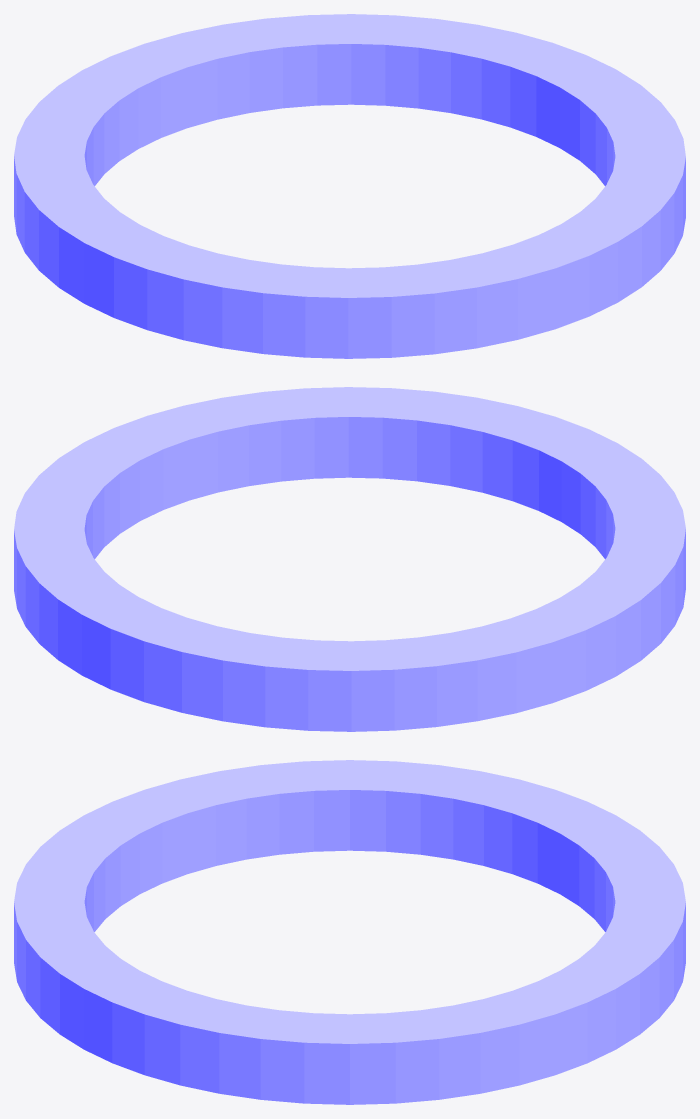
The picture shows the model from 3 angles, top to bottom: view 1: azimuth 30°, elevation 25°; view 2: azimuth 150°, elevation 25°; view 3: azimuth 270°, elevation 25°; orthographic projection.
Visible parts, largest first — view 1: Circle; view 2: Circle; view 3: Circle.
Boxes of the visible parts, x1,y1,x2,y2 form: Circle: (14, 14, 685, 358); Circle: (14, 387, 685, 731); Circle: (14, 760, 685, 1104).
Size of the model in its own units: 2 by 0.2 by 2.
